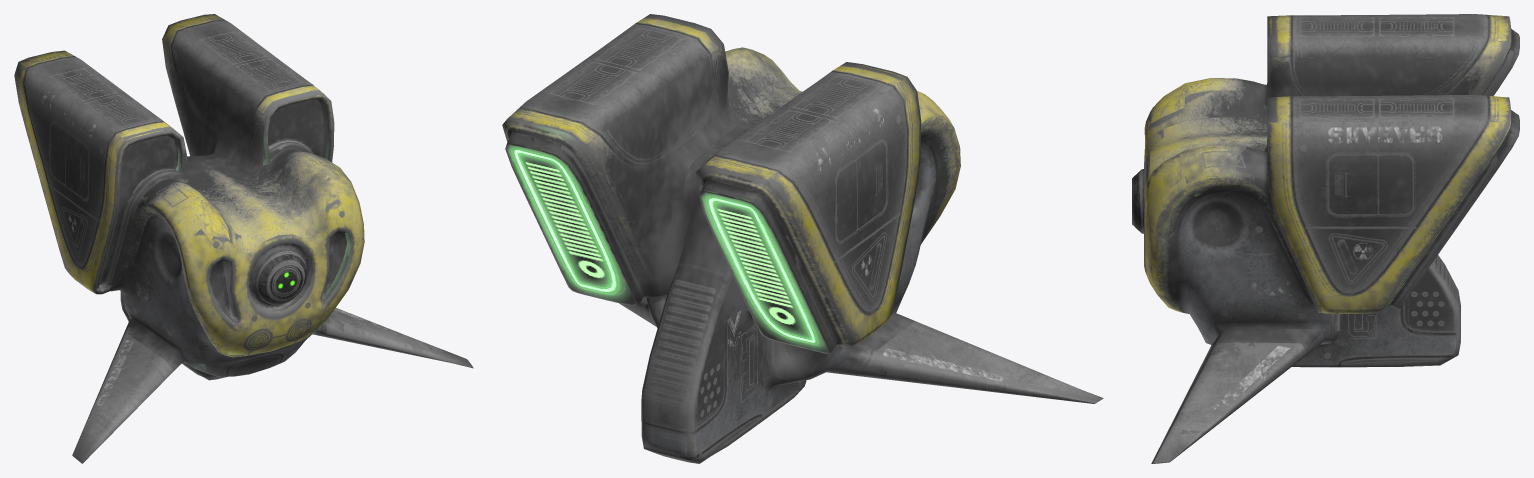
Rendered from sf_scout_drone.glb.
The picture shows the model from 3 angles, left to right: view 1: azimuth 30°, elevation 25°; view 2: azimuth 150°, elevation 25°; view 3: azimuth 270°, elevation 25°; orthographic projection. The views are drawn at different scales.
Parts seen in each view (by area): view 1: SF Scout Drone_0; view 2: SF Scout Drone_0; view 3: SF Scout Drone_0.
Boxes of the visible parts, <box> form: SF Scout Drone_0: <box>14,14,473,463</box>; SF Scout Drone_0: <box>502,14,1103,463</box>; SF Scout Drone_0: <box>1132,14,1519,463</box>.
Bounding box in the file's own units: 10.27 × 6.54 × 7.87.
Materials: 1 (1 with a texture image).
